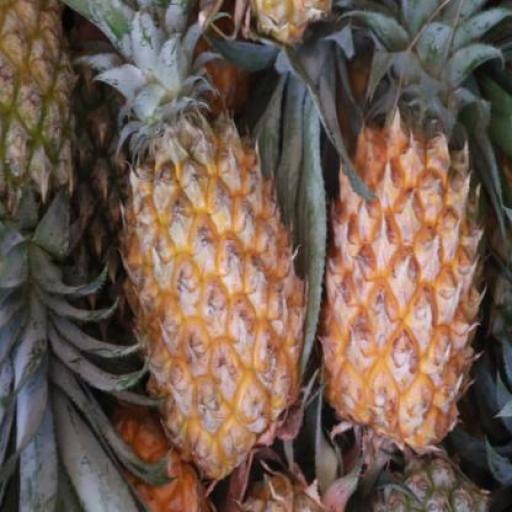Pineapple - v8 v1: (116, 118, 310, 478), (324, 126, 478, 462)
